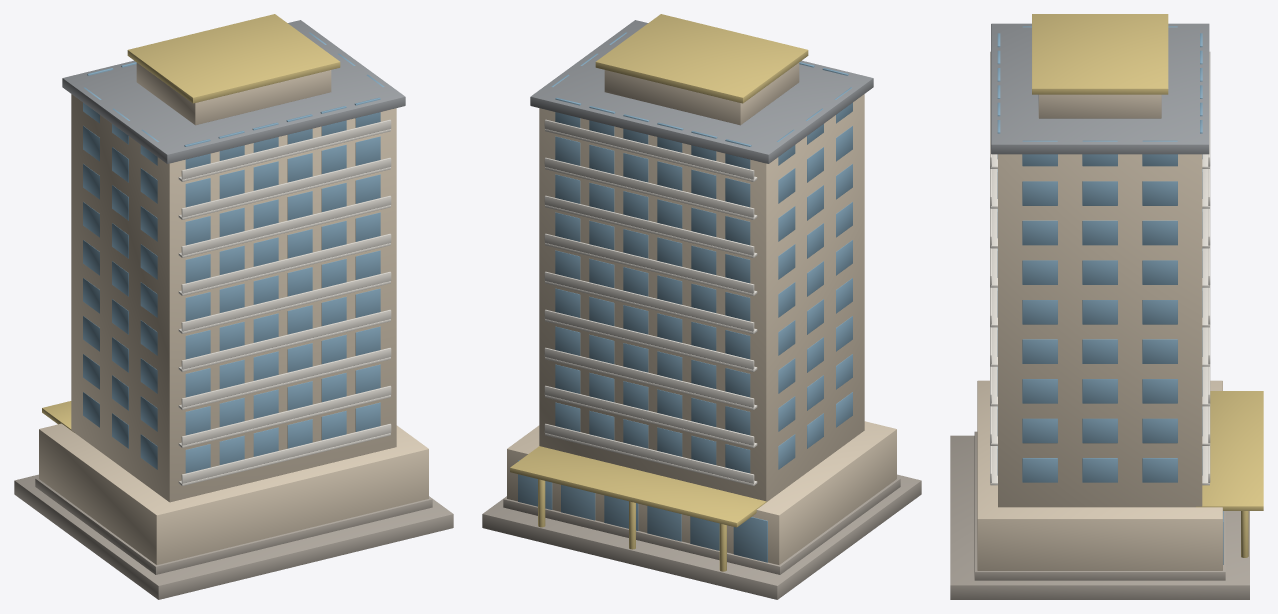
Rendered from th9_hotel.glb.
3 renders of one model, left to right at view 1: azimuth 30°, elevation 25°; view 2: azimuth 150°, elevation 25°; view 3: azimuth 270°, elevation 25°, orthographic. The views are drawn at different scales.
Visible parts, largest first — view 1: Cube.010, Cube.001, Cube.209, Cube, Cube.211, Cube.210, Cube.002, Cube.084, Cube.100, Cube.116, Cube.132, Cube.052 (+61 smaller); view 2: Cube.010, Cube.209, Cube.001, Cube, Cube.211, Cube.009, Cube.210, Cube.002, Cube.076, Cube.092, Cube.108, Cube.124 (+68 smaller); view 3: Cube.010, Cube.001, Cube.209, Cube.211, Cube, Cube.009, Cube.002, Cube.210, Cube.161, Cube.162, Cube.163, Cube.191 (+23 smaller).
Part boxes in pixels (<box>): Cube.010: <box>71,94,396,502</box>; Cube.001: <box>39,423,428,564</box>; Cube.209: <box>62,20,405,163</box>; Cube: <box>14,474,453,599</box>; Cube.211: <box>127,14,340,103</box>; Cube.210: <box>136,62,331,125</box>; Cube.002: <box>35,477,432,574</box>; Cube.084: <box>181,271,391,331</box>; Cube.100: <box>181,233,391,293</box>; Cube.116: <box>181,195,391,255</box>; Cube.132: <box>181,157,391,217</box>; Cube.052: <box>181,347,391,407</box>; Cube.010: <box>539,94,864,501</box>; Cube.209: <box>530,20,873,163</box>; Cube.001: <box>507,421,896,564</box>; Cube: <box>482,474,921,599</box>; Cube.211: <box>595,14,808,103</box>; Cube.009: <box>510,446,769,527</box>; Cube.210: <box>604,62,799,125</box>; Cube.002: <box>503,477,900,574</box>; Cube.076: <box>544,271,754,331</box>; Cube.092: <box>544,233,754,293</box>; Cube.108: <box>544,195,754,255</box>; Cube.124: <box>544,157,754,217</box>; Cube.010: <box>998,154,1202,507</box>; Cube.001: <box>977,380,1222,570</box>; Cube.209: <box>991,23,1209,154</box>; Cube.211: <box>1032,14,1168,94</box>; Cube: <box>950,435,1249,599</box>; Cube.009: <box>1196,391,1263,510</box>; Cube.002: <box>974,431,1225,580</box>; Cube.210: <box>1038,94,1161,118</box>; Cube.161: <box>1142,418,1177,443</box>; Cube.162: <box>1082,418,1117,443</box>; Cube.163: <box>1022,418,1057,443</box>; Cube.191: <box>1142,220,1177,245</box>.
Size of the model in its own units: 26 by 38.35 by 23.
